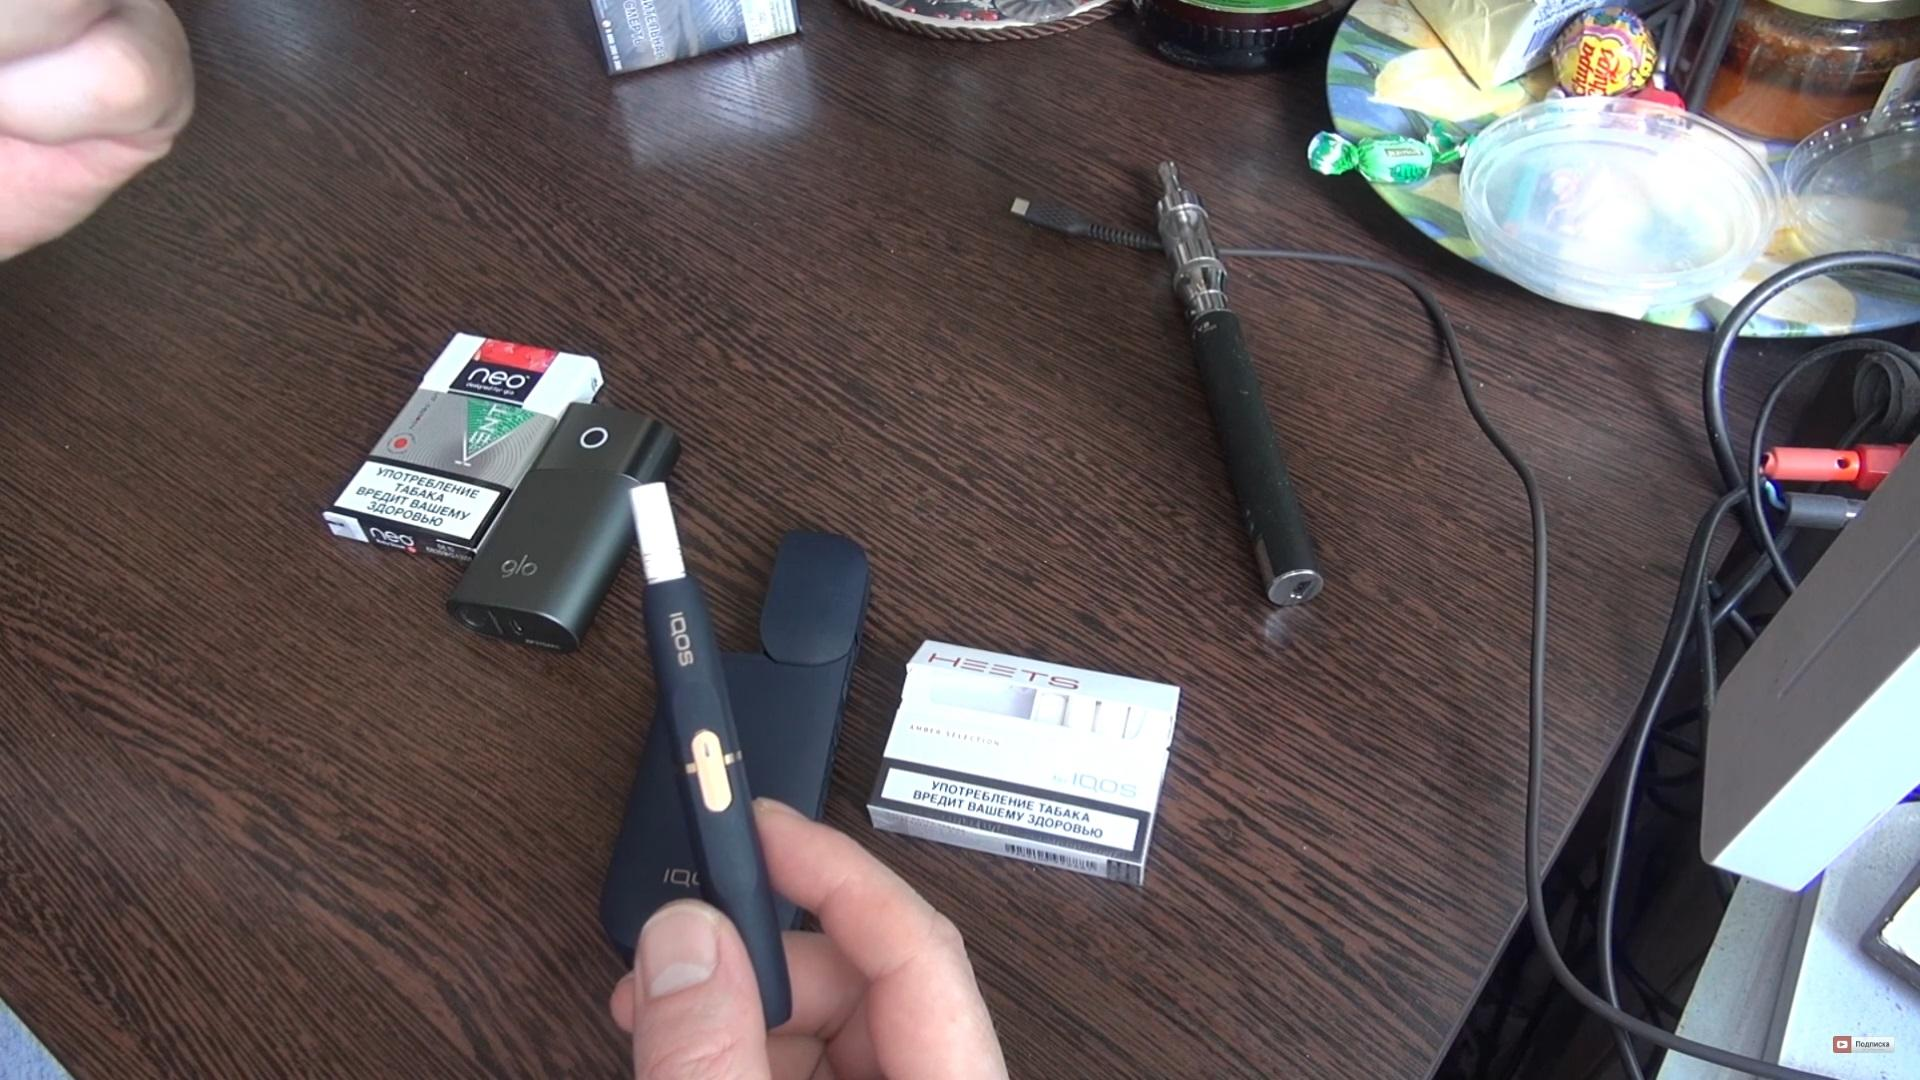Vape: (1156, 162, 1323, 607)
iqos: (626, 484, 793, 1029)
